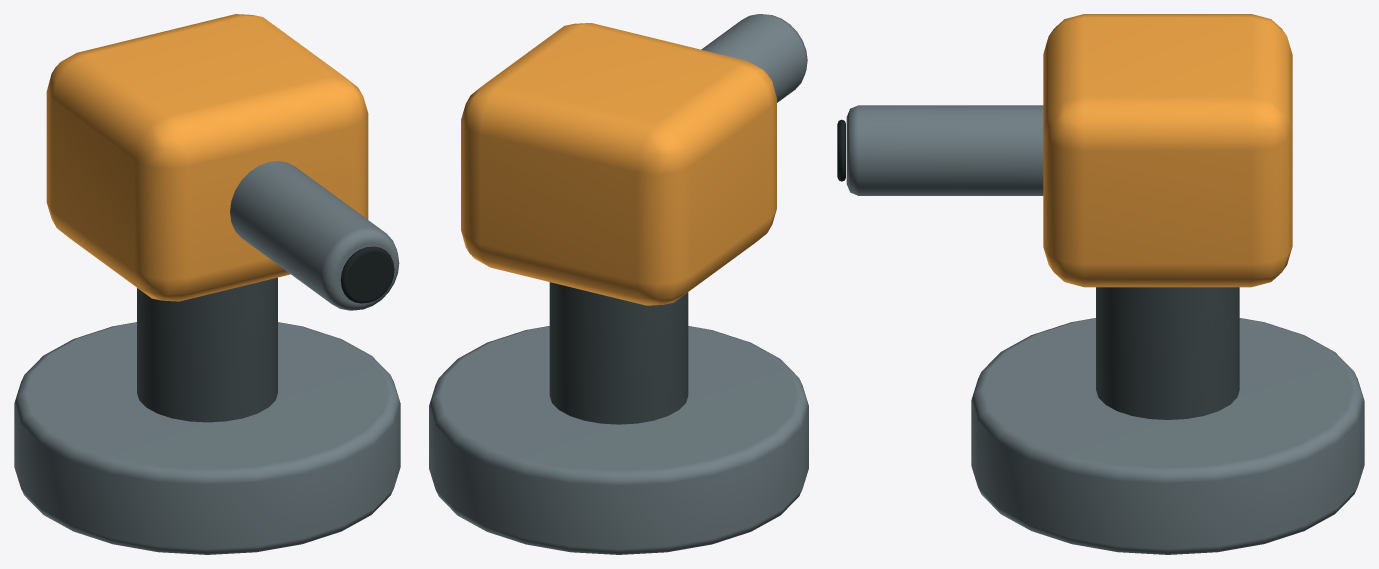
File: turret.glb
3 views of the same model, side by side, from view 1: azimuth 30°, elevation 25°; view 2: azimuth 150°, elevation 25°; view 3: azimuth 270°, elevation 25° (orthographic). The views are drawn at different scales.
Parts seen in each view (by area): view 1: Turret shared pod, Turret base, Turret column, Recoil barrel.002, Dark muzzle.002; view 2: Turret shared pod, Turret base, Turret column, Recoil barrel.002; view 3: Turret shared pod, Turret base, Turret column, Recoil barrel.002.
Part boxes in pixels (x1,y1,x2,y2): Turret shared pod: [46, 14, 368, 301]; Turret base: [14, 322, 400, 554]; Turret column: [137, 277, 277, 422]; Recoil barrel.002: [230, 161, 399, 310]; Dark muzzle.002: [340, 246, 394, 303]; Turret shared pod: [461, 23, 776, 305]; Turret base: [429, 326, 808, 554]; Turret column: [549, 282, 688, 424]; Recoil barrel.002: [701, 14, 807, 102]; Turret shared pod: [1043, 14, 1292, 287]; Turret base: [971, 318, 1364, 554]; Turret column: [1096, 287, 1239, 419]; Recoil barrel.002: [846, 105, 1043, 195].
Size of the model in its own units: 0.82 by 0.965 by 1.1.
